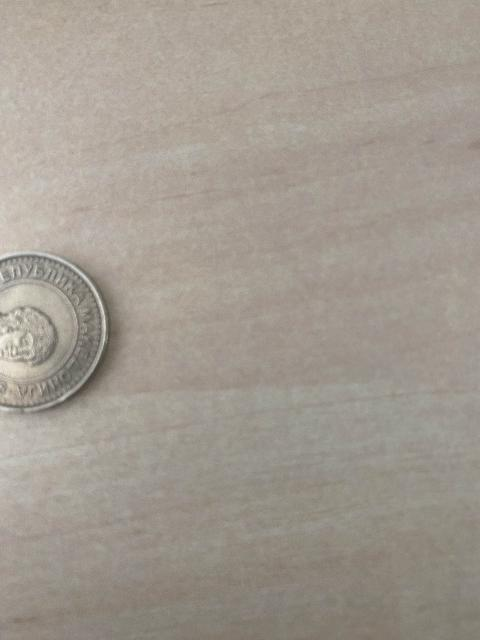coin: (0, 252, 104, 407)
